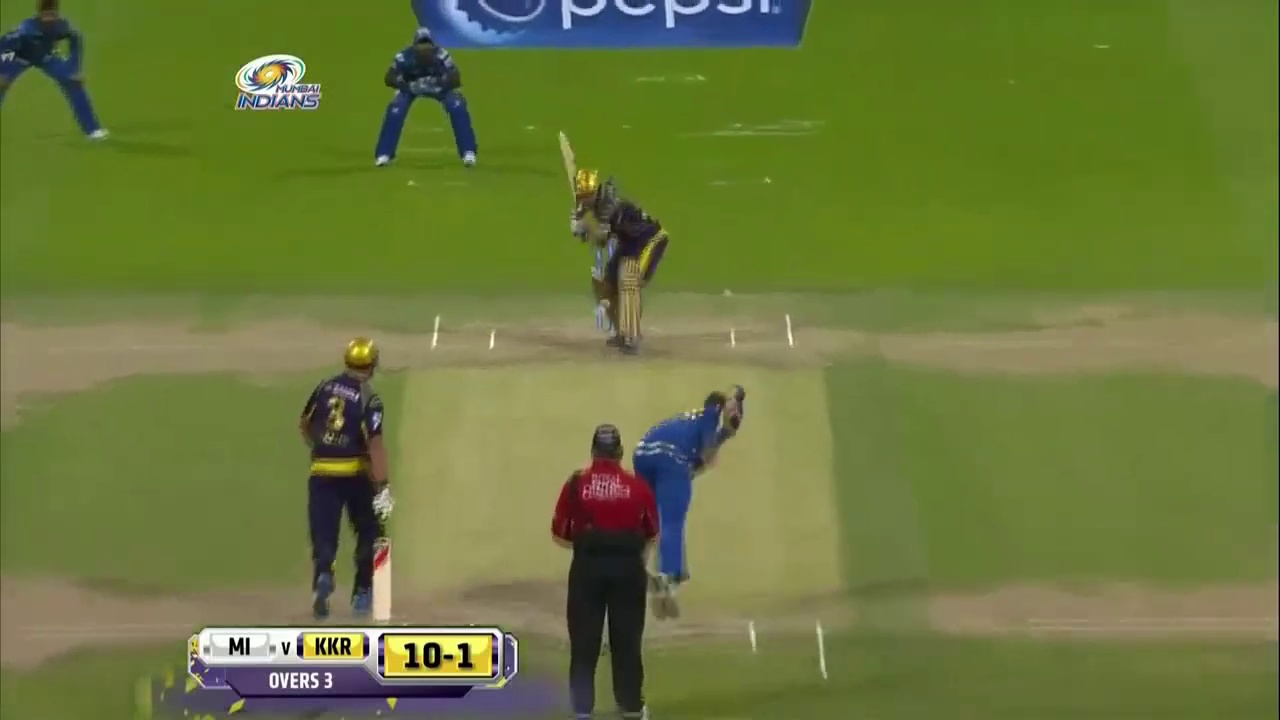bat: (552, 128, 580, 172)
